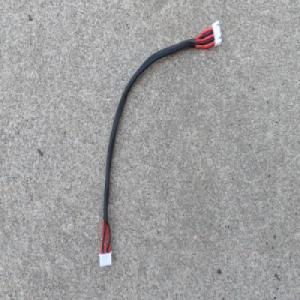Wire: (97, 18, 224, 269)
